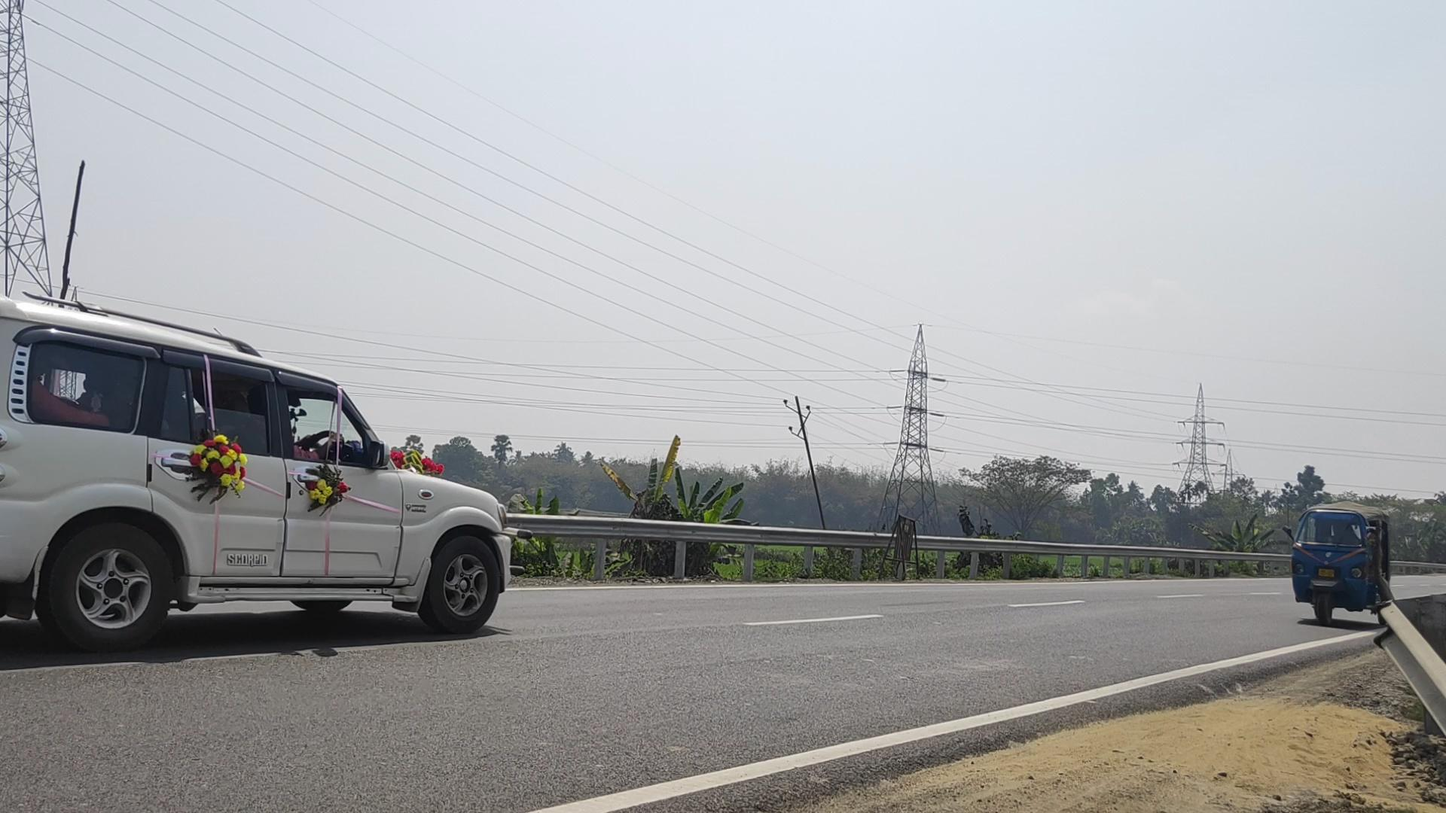Auto: (1283, 501, 1392, 626)
car: (1, 292, 531, 653)
